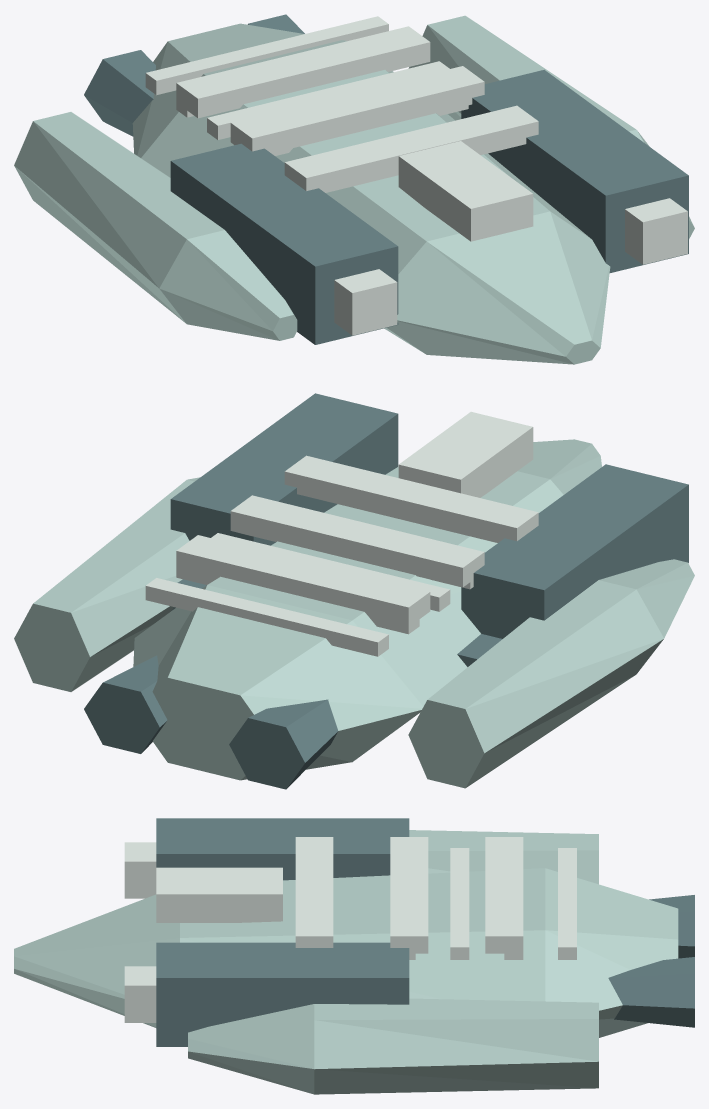
3 views of the same model, one above another, from view 1: azimuth 30°, elevation 25°; view 2: azimuth 150°, elevation 25°; view 3: azimuth 270°, elevation 25° (orthographic). The views are drawn at different scales.
Size of the model in its own units: 3.36 by 1.03 by 4.48.
